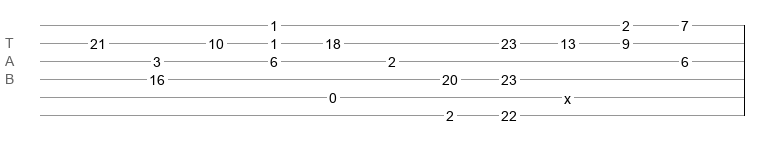0: (329, 90, 337, 100)
1: (270, 36, 278, 46), (270, 18, 278, 28)
10: (208, 36, 224, 46)
13: (560, 36, 576, 46)
16: (149, 72, 165, 82)
18: (325, 36, 341, 46)
2: (388, 54, 396, 64), (446, 108, 454, 118), (622, 18, 630, 28)
20: (442, 72, 458, 82)
21: (90, 36, 106, 46)
22: (501, 108, 517, 118)
23: (501, 36, 517, 46), (501, 72, 517, 82)
3: (153, 54, 161, 64)
6: (270, 54, 278, 64), (681, 54, 689, 64)
7: (681, 18, 689, 28)
9: (622, 36, 630, 46)
x: (564, 91, 571, 99)
